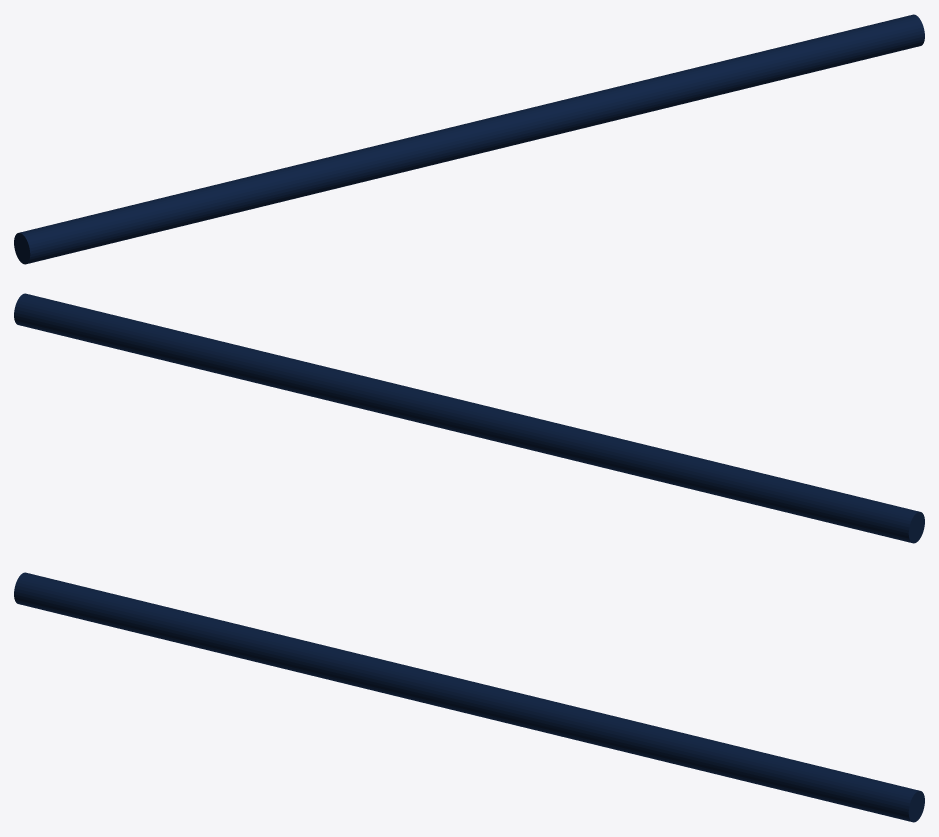
Rendered from drone_sky.gltf.
3 views of the same model, one above another, from view 1: azimuth 30°, elevation 25°; view 2: azimuth 150°, elevation 25°; view 3: azimuth 330°, elevation 25° (orthographic).
Parts seen in each view (by area): view 1: Cylinder.001; view 2: Cylinder.001; view 3: Cylinder.001.
Boxes of the visible parts, x1,y1,x2,y2 form: Cylinder.001: [14, 14, 924, 264]; Cylinder.001: [14, 293, 924, 543]; Cylinder.001: [14, 572, 924, 822].
Bounding box in the file's own units: 2 × 0.0629 × 0.0629.
